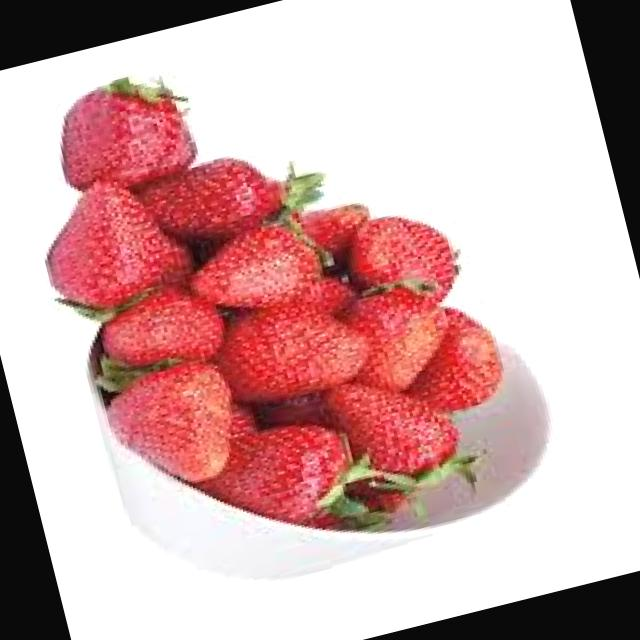strawberry: (11, 165, 192, 326), (98, 350, 274, 510), (327, 352, 477, 515), (41, 66, 214, 204), (180, 213, 340, 325), (341, 262, 465, 393)
